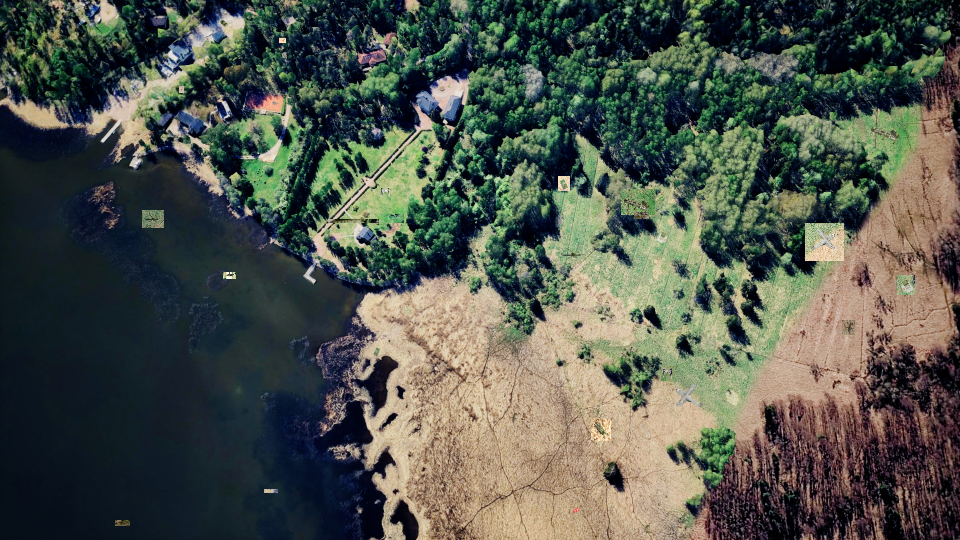condor: (805, 223, 844, 261)
hangar: (328, 219, 379, 223)
helicopter: (142, 210, 164, 228)
jammer: (558, 176, 570, 191)
jet_plane: (381, 214, 404, 223)
large_launcher: (621, 189, 655, 215)
large_tower: (634, 212, 649, 219)
medium_launcher: (115, 520, 130, 526)
medium_plane: (223, 272, 236, 279)
mine_roller: (591, 419, 611, 441)
small_launcher: (179, 86, 184, 93)
small_plane: (842, 320, 855, 335)
small_tower: (897, 275, 915, 295)
spacecraft: (661, 366, 674, 381)
ta-ta: (279, 38, 286, 43)
tank: (264, 489, 278, 493)
